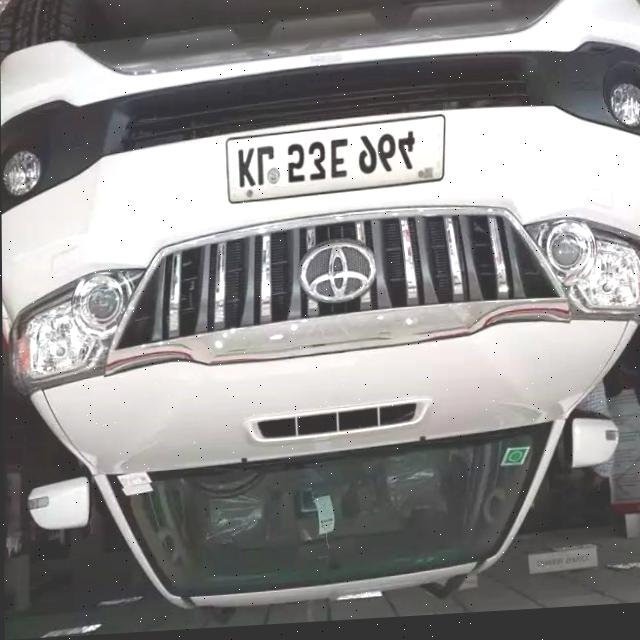plate: (224, 121, 446, 209)
